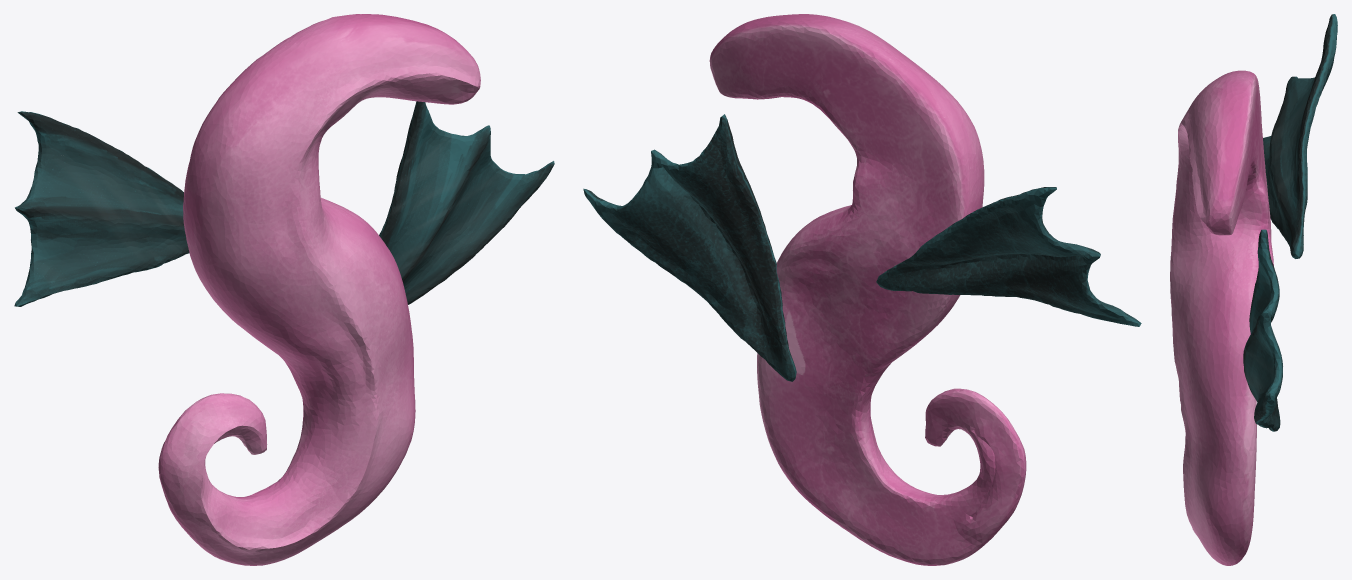
Rendered from Lengua.glb.
3 renders of one model, left to right at view 1: azimuth 30°, elevation 25°; view 2: azimuth 150°, elevation 25°; view 3: azimuth 270°, elevation 25°, orthographic. The views are drawn at different scales.
Parts seen in each view (by area): view 1: Lengua, Algas; view 2: Lengua, Algas; view 3: Lengua, Algas.
Part boxes in pixels (bbox=[...]): Lengua: bbox=[158, 14, 480, 565]; Algas: bbox=[14, 101, 554, 306]; Lengua: bbox=[709, 14, 1026, 565]; Algas: bbox=[583, 114, 1141, 381]; Lengua: bbox=[1170, 70, 1273, 565]; Algas: bbox=[1243, 14, 1337, 431].
Size of the model in its own units: 0.9656 by 0.879 by 0.2643.
Materials: 2 (2 with a texture image).
